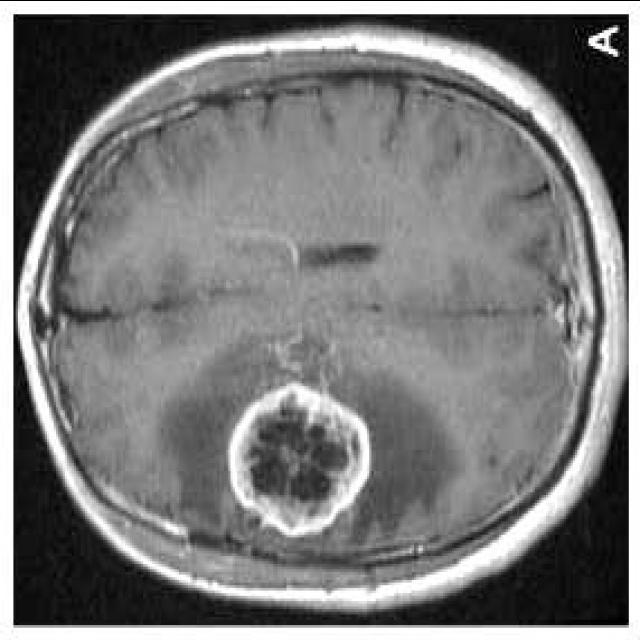tumor: (228, 382, 376, 536)
